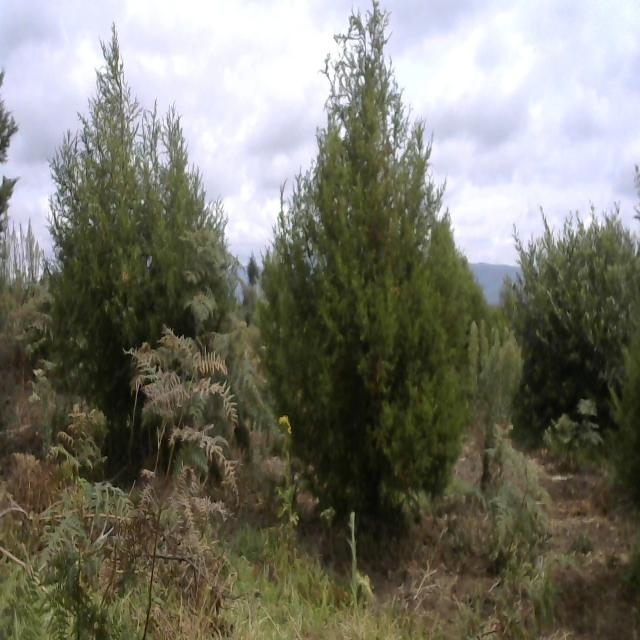Juniperus procesera: (266, 9, 501, 567), (60, 9, 237, 466)
Olea europea -africana-: (509, 200, 640, 418)
